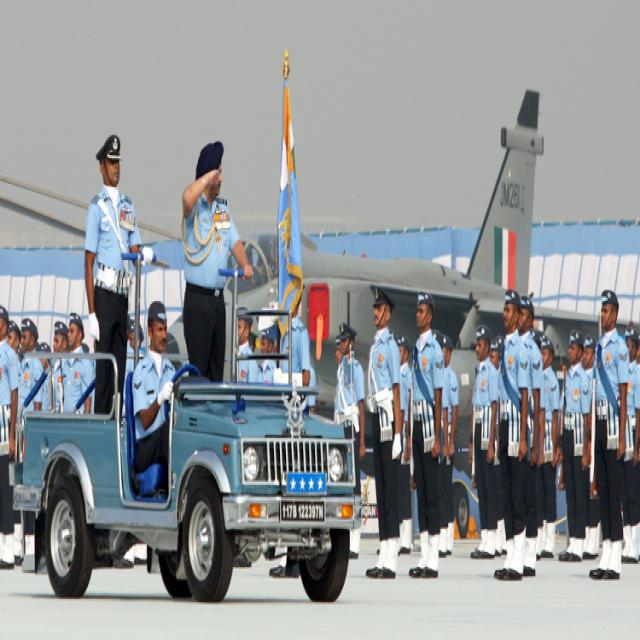military-plate: (277, 496, 326, 528)
